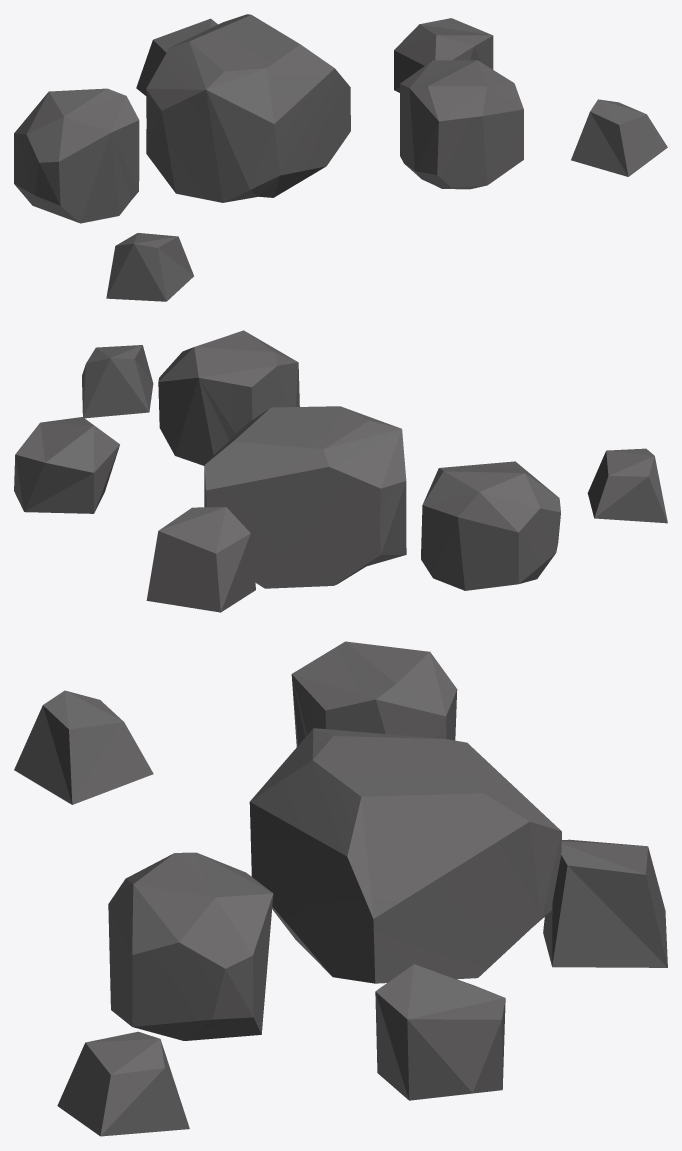
Rendered from SM_Env_Rubble_Pebbles_03.obj.
The picture shows the model from 3 angles, top to bottom: view 1: azimuth 30°, elevation 25°; view 2: azimuth 150°, elevation 25°; view 3: azimuth 270°, elevation 25°; orthographic projection. The views are drawn at different scales.
Parts seen in each view (by area): view 1: SM_Env_Rubble_Pebbles_03_0; view 2: SM_Env_Rubble_Pebbles_03_0; view 3: SM_Env_Rubble_Pebbles_03_0.
Part boxes in pixels (box(x1,y1,x2,y2)): SM_Env_Rubble_Pebbles_03_0: box(14, 14, 667, 301); SM_Env_Rubble_Pebbles_03_0: box(14, 330, 667, 612); SM_Env_Rubble_Pebbles_03_0: box(14, 641, 667, 1136).
Size of the model in its own units: 1.02 by 0.2478 by 0.7139.
Materials: 1 (1 with a texture image).
